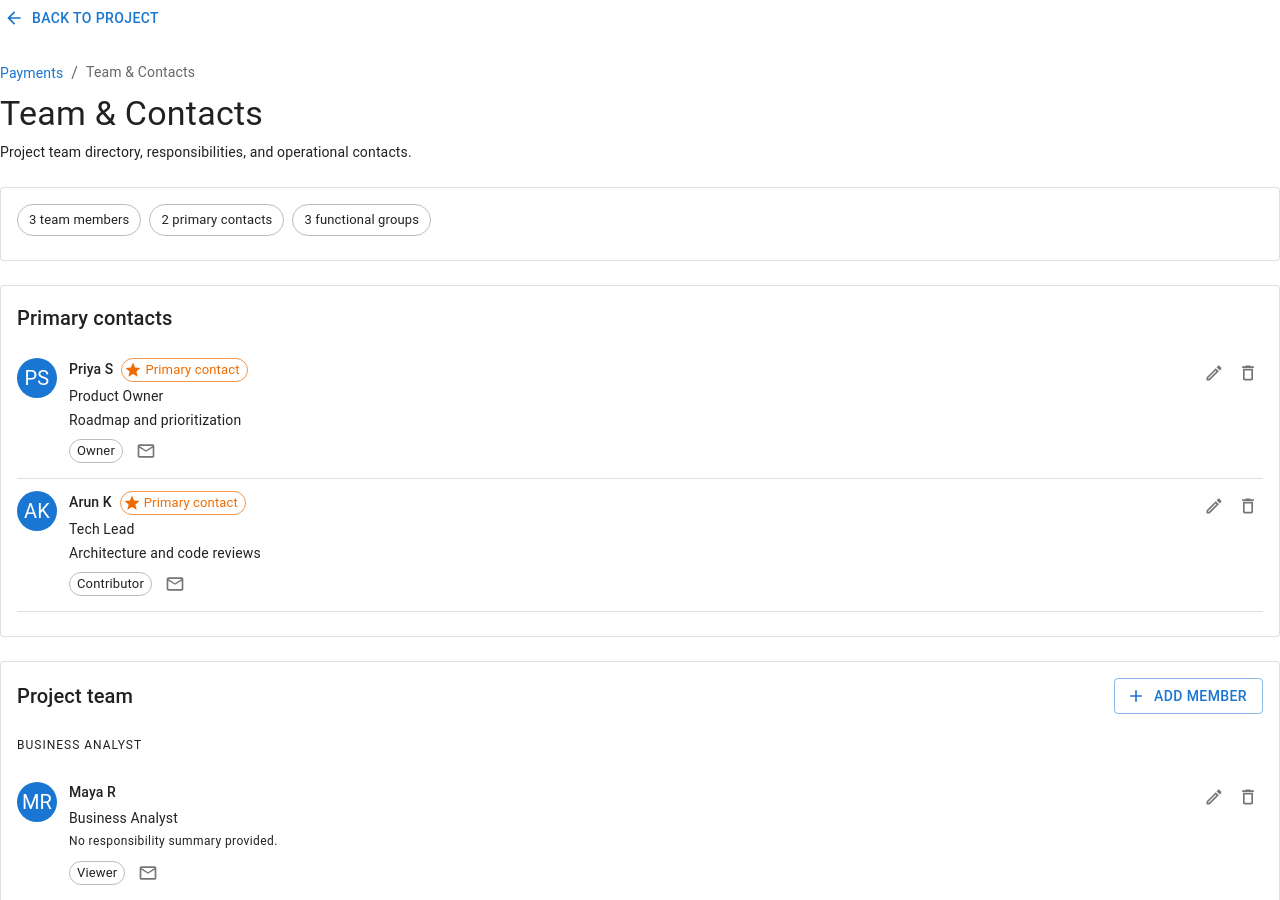
Test: ProjectTeamPage › opens add member dialog
Step 1. Click the button "Add member" → (1188,696), box [1114, 678, 1263, 714]
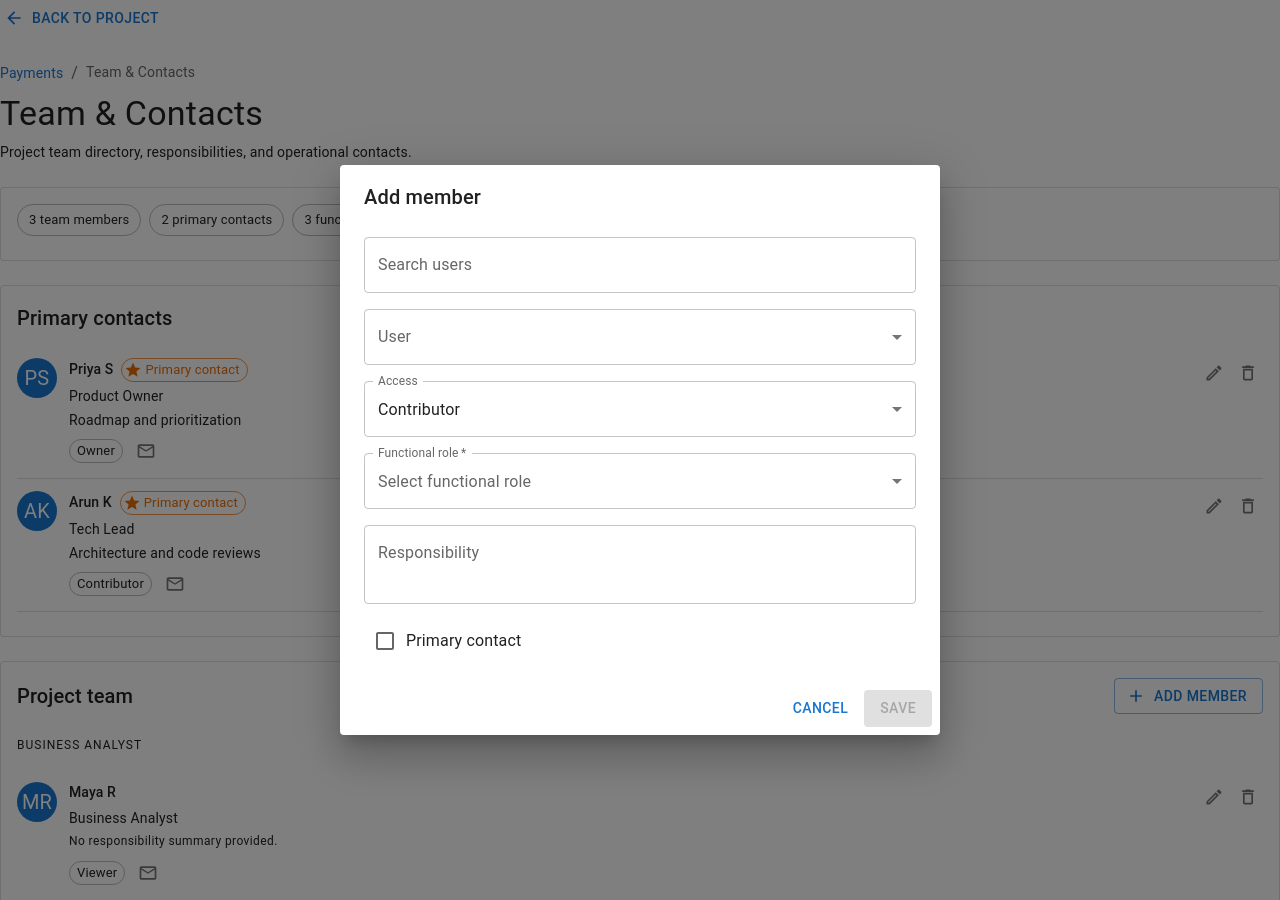
Expected: the dialog is shown, [340, 165, 940, 735]
Expected: the dialog shows "Add member", [364, 185, 481, 209]
